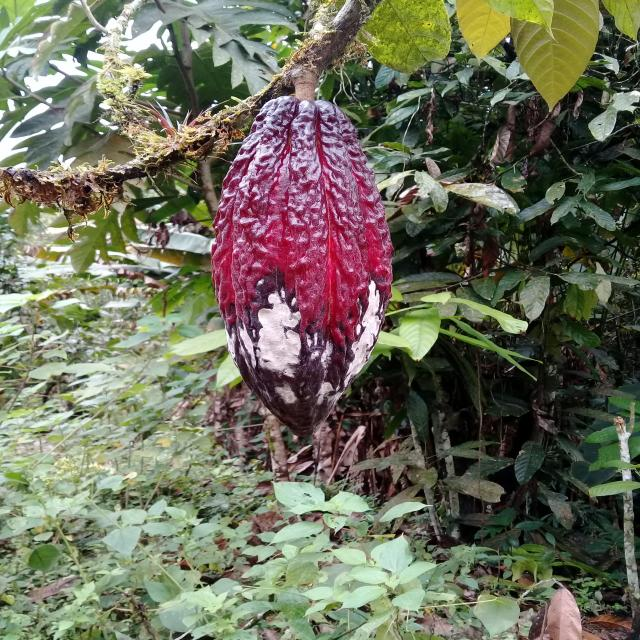Monilia: (210, 95, 393, 441)
